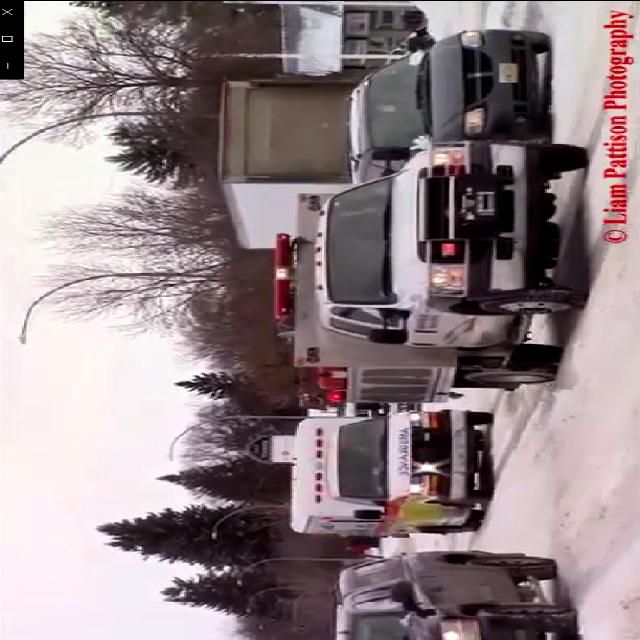emergency: (278, 139, 594, 405), (290, 404, 496, 536)
